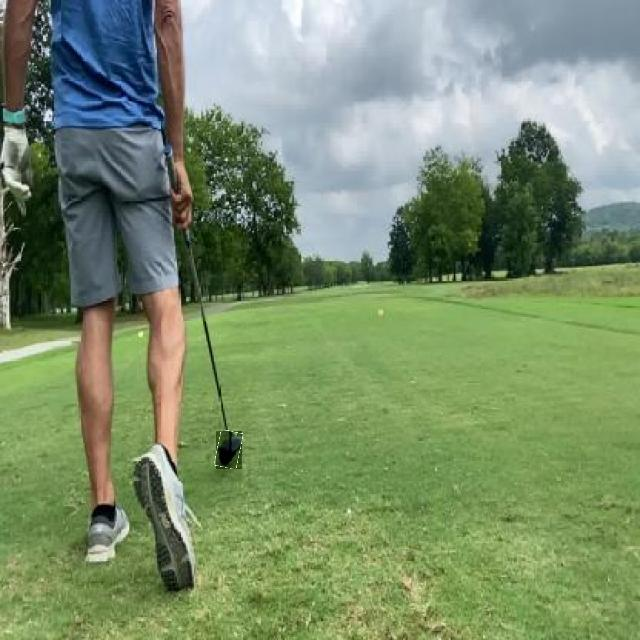club head: (216, 431, 242, 469)
